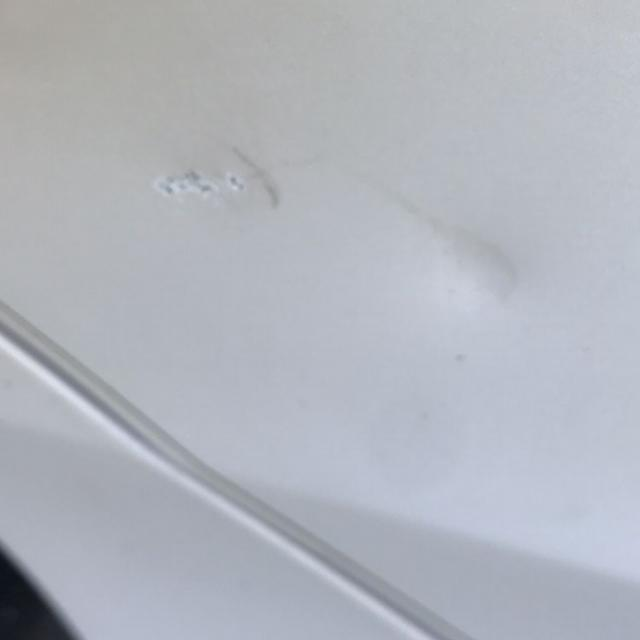dents: (358, 177, 536, 310), (225, 119, 318, 228)
